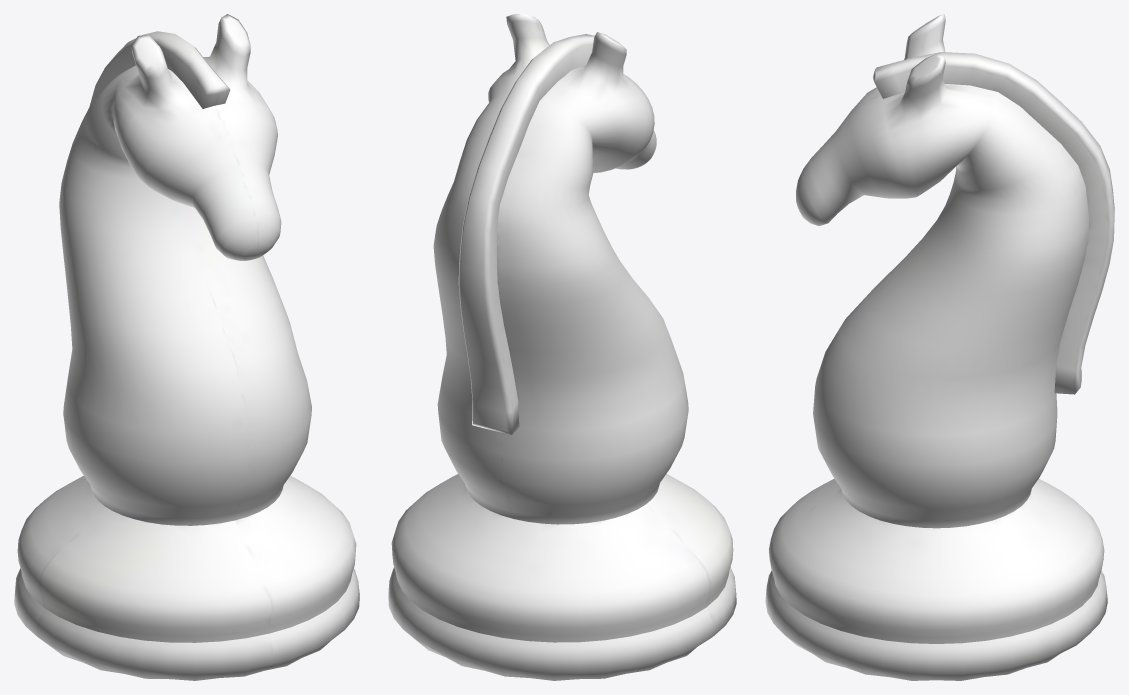
Rendered from Caballo_Blanco.glb.
3 renders of one model, left to right at view 1: azimuth 30°, elevation 25°; view 2: azimuth 150°, elevation 25°; view 3: azimuth 270°, elevation 25°, orthographic.
Parts seen in each view (by area): view 1: caballo_b; view 2: caballo_b; view 3: caballo_b.
Boxes of the visible parts, x1,y1,x2,y2 form: caballo_b: (14,14,359,680); caballo_b: (388,14,736,680); caballo_b: (765,14,1114,680).
Size of the model in its own units: 0.7827 by 1.46 by 0.7982.
Materials: 1 (1 with a texture image).
